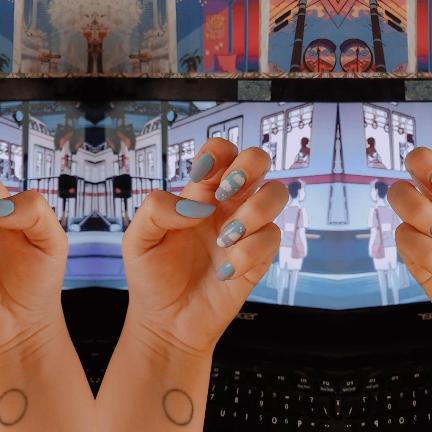Nail: (214, 169, 245, 202), (174, 199, 215, 219), (215, 221, 244, 248), (188, 153, 213, 183), (215, 262, 233, 281), (0, 199, 14, 218), (429, 172, 432, 185), (430, 226, 432, 235)
